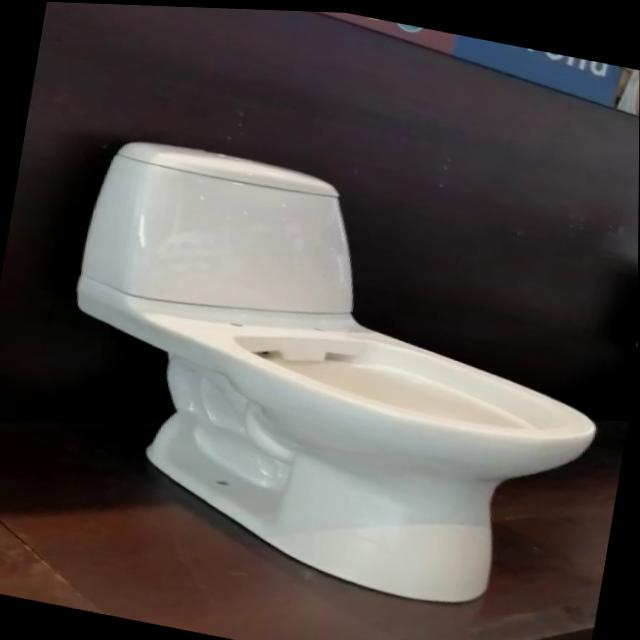toilet: (36, 126, 630, 626)
